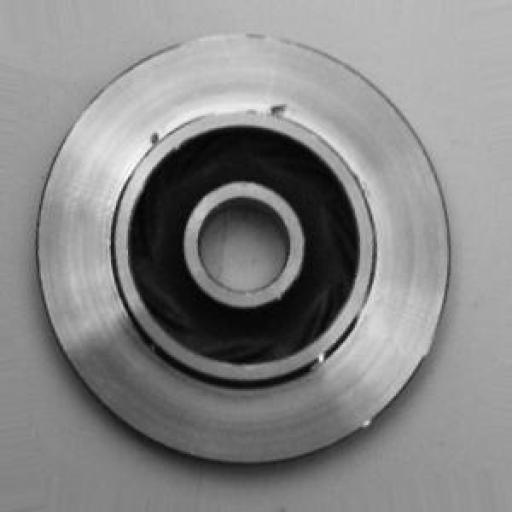defect: (131, 104, 303, 170)
